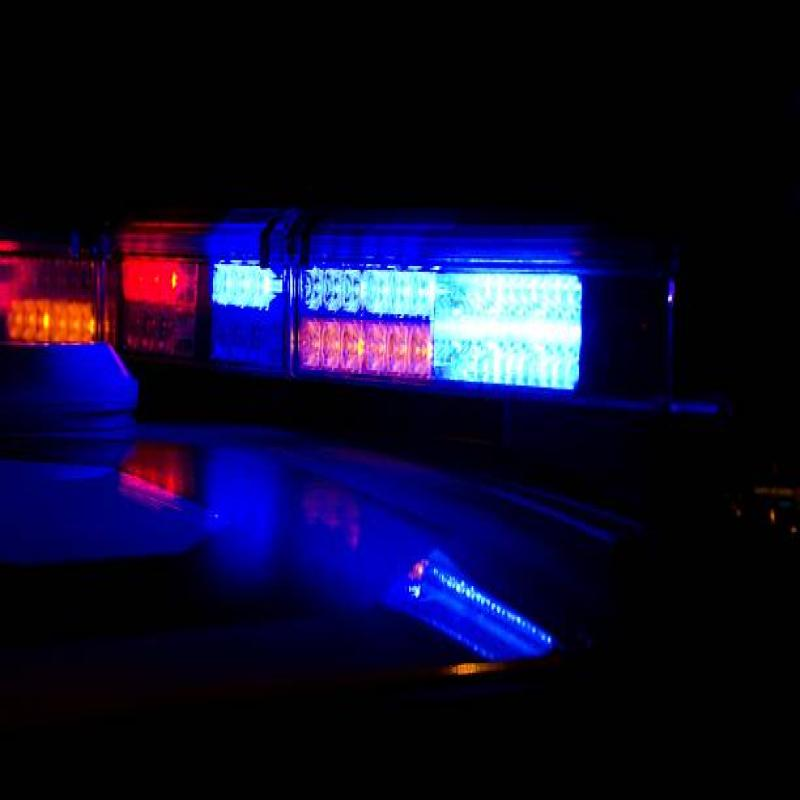AmbulanceSiren: (7, 149, 709, 480)
